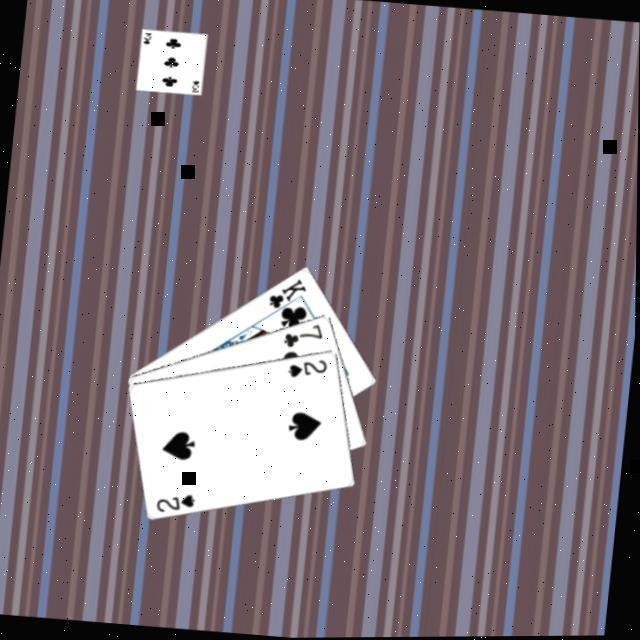2S: (284, 352, 330, 382), (153, 486, 199, 516)
7C: (280, 317, 326, 351)
KC: (264, 272, 310, 320)
